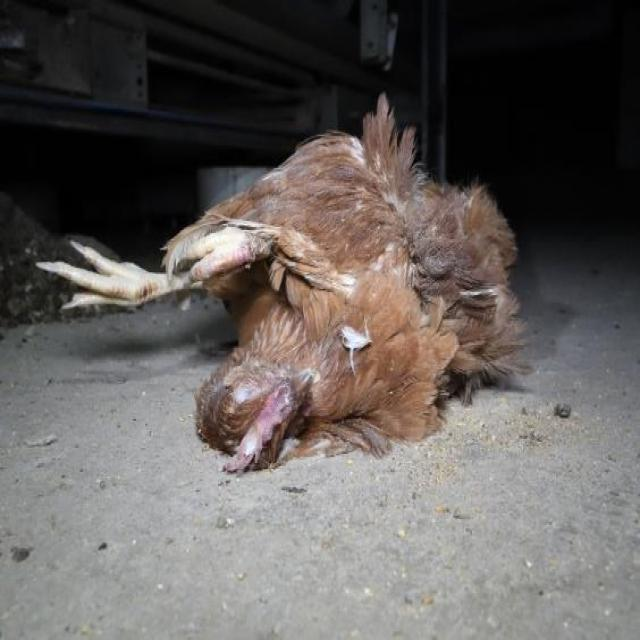Unhealthy: (38, 75, 559, 483)
